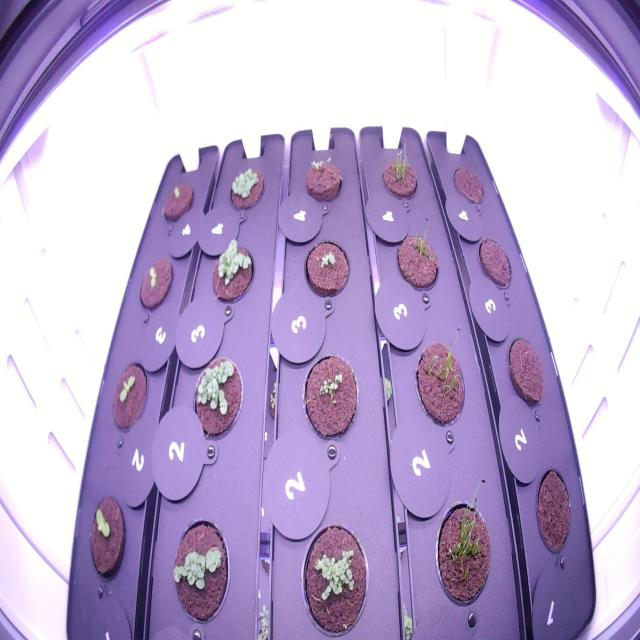germination: (431, 468, 502, 618), (295, 514, 373, 639), (162, 511, 237, 628), (411, 320, 472, 434), (295, 347, 363, 448), (188, 346, 246, 450), (83, 489, 131, 590), (392, 209, 443, 296), (205, 234, 257, 312), (108, 352, 152, 437), (298, 235, 353, 303), (376, 132, 423, 205), (134, 249, 177, 318), (298, 148, 347, 207), (225, 160, 268, 218), (158, 173, 198, 231)
pod: (530, 460, 574, 560), (502, 331, 550, 412), (474, 231, 516, 297), (448, 158, 487, 210)
